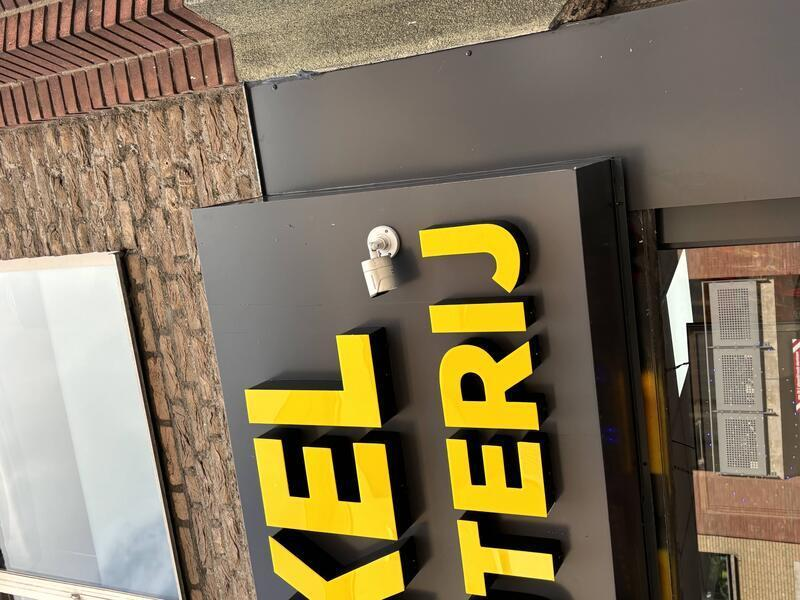bullet: (296, 352, 376, 404)
